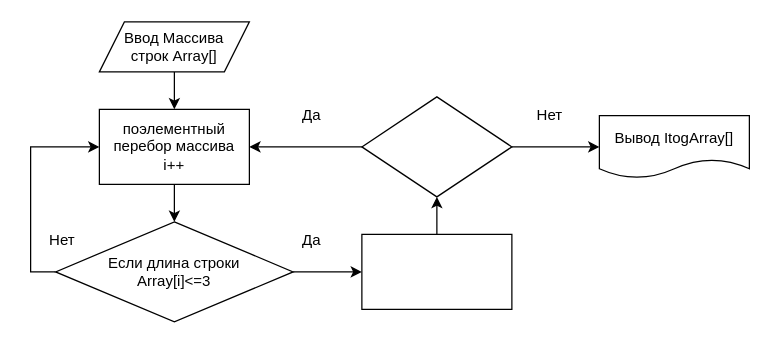
Image size: 771x344. Some labels were removed from this diagram. The centre of each missing label's shape, as x and y in pixels:
"i < lenght.Array" goes at (x=436, y=146).
"Добавляем Array[i] в массив ItogArray[]" goes at (x=436, y=271).
